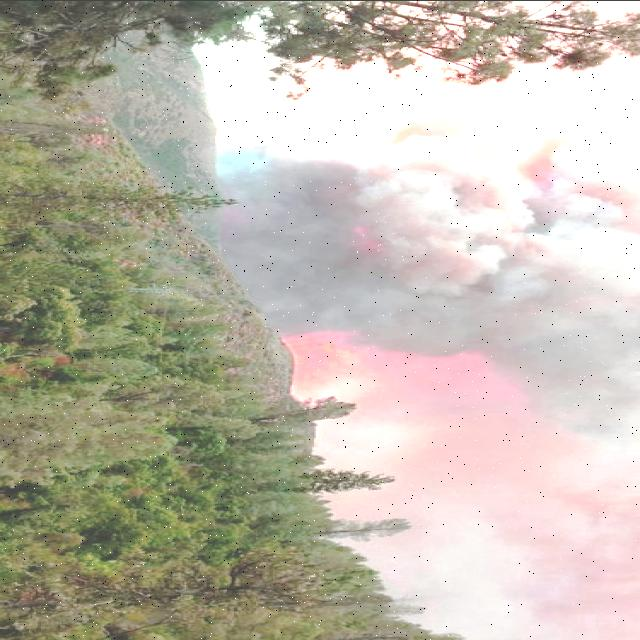asap: (406, 117, 640, 631), (209, 117, 407, 349)
